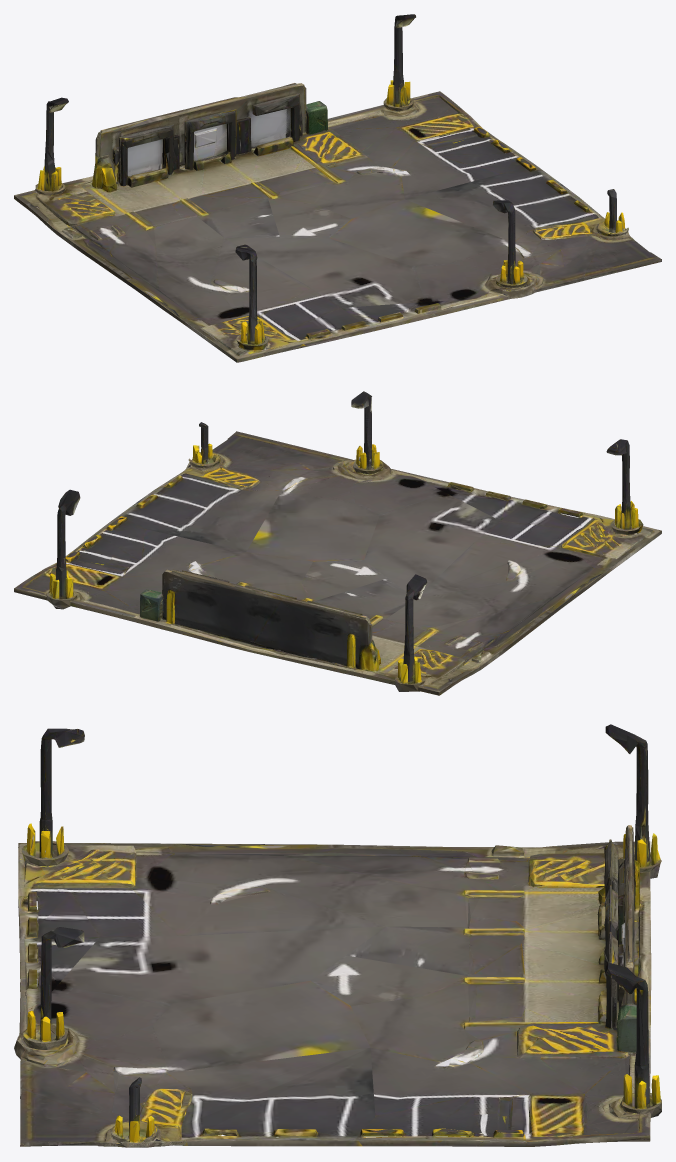
File: truck_depot.glb
3 views of the same model, one above another, from view 1: azimuth 30°, elevation 25°; view 2: azimuth 150°, elevation 25°; view 3: azimuth 270°, elevation 25° (orthographic). The views are drawn at different scales.
Parts seen in each view (by area): view 1: normalize; view 2: normalize; view 3: normalize.
Boxes of the visible parts, x1=… form: normalize: x1=14, y1=14, x2=661, y2=362; normalize: x1=14, y1=391, x2=661, y2=695; normalize: x1=14, y1=724, x2=661, y2=1147.
Size of the model in its own units: 1 by 0.2372 by 0.9231.
1 material, 1 textured.
